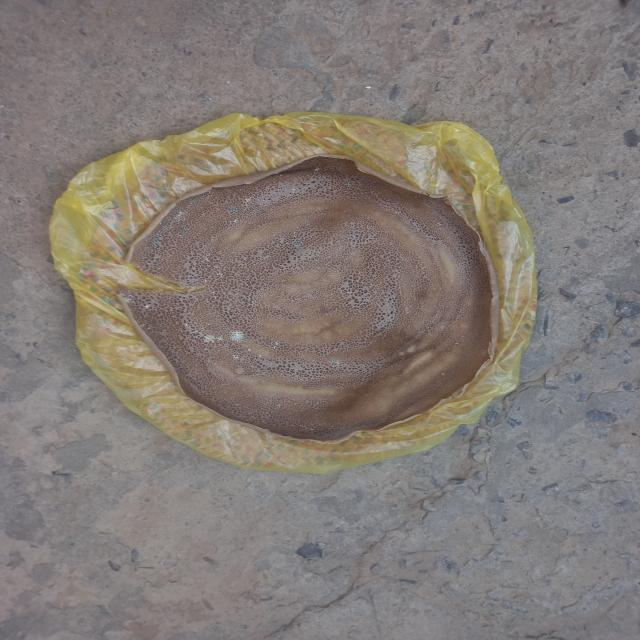injera_mold: (180, 323, 226, 351), (172, 208, 189, 224), (117, 294, 139, 306), (229, 329, 246, 343), (299, 423, 317, 436), (137, 321, 155, 332), (210, 270, 226, 280), (200, 251, 214, 262), (268, 340, 282, 350), (151, 235, 161, 248), (226, 205, 238, 212), (242, 198, 254, 205), (312, 166, 321, 174), (330, 359, 340, 366), (296, 240, 303, 248), (181, 226, 189, 232), (232, 355, 241, 360), (163, 225, 170, 231), (231, 219, 239, 224), (346, 182, 352, 188), (191, 200, 198, 205), (144, 305, 150, 310), (255, 208, 260, 214), (315, 401, 321, 406), (274, 404, 281, 408), (201, 278, 208, 282), (293, 233, 298, 238), (256, 354, 262, 358), (305, 222, 311, 226), (437, 222, 442, 226), (441, 372, 446, 376), (454, 342, 460, 345), (247, 348, 251, 352), (166, 217, 171, 220), (292, 188, 296, 190)
